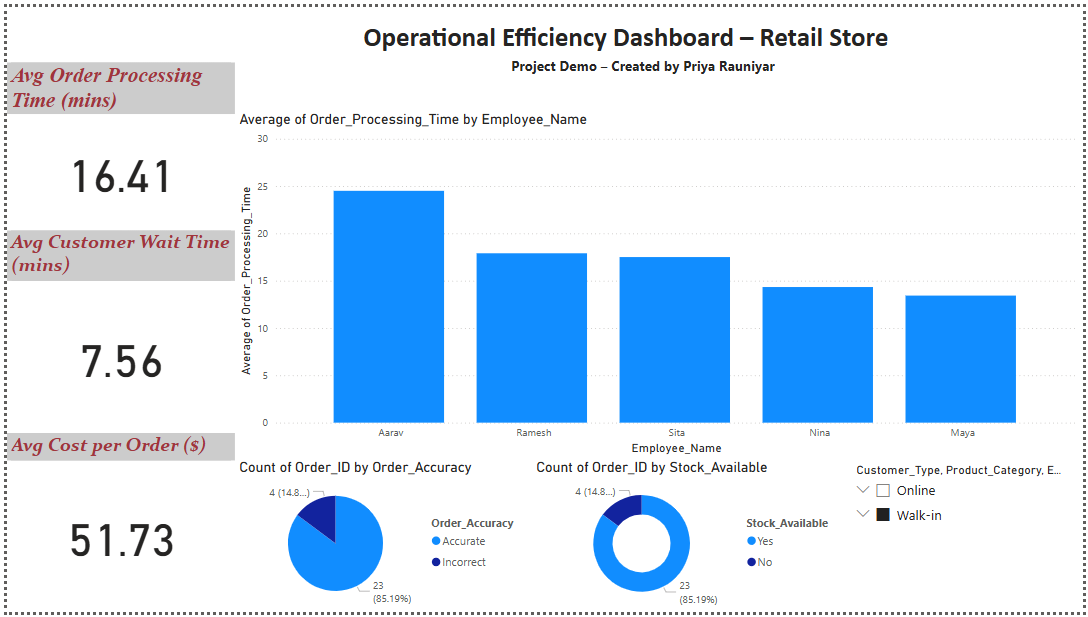

This screenshot's page, from the dashboard's own definition file:
{"tool":"powerbi","page":{"name":"Page 1","canvas":[1280,720],"ordinal":0},"visuals":[{"type":"card","title":"Avg Order Processing Time (mins)","fields":{"Values":["Sheet1.Order_Processing_Time"]},"box":[0,65.3,271.3,200.9],"z":0},{"type":"card","title":"Avg Customer Wait Time (mins)","fields":{"Values":["Sheet1.Customer_Wait_Time"]},"box":[0,266.2,271.3,240.4],"z":1000},{"type":"card","title":"Avg Cost per Order ($)","fields":{"Values":["Sheet1.Cost_per_Order"]},"box":[0,506.6,271.3,213],"z":2000},{"type":"hundredPercentStackedColumnChart","fields":{"Category":["Sheet1.Employee_Name"],"Y":["Sheet1.Order_Processing_Time"]},"box":[271.3,65.3,1008.1,415.6],"z":3000},{"type":"pieChart","fields":{"Category":["Sheet1.Order_Accuracy"],"Y":["Sheet1.Order_ID"]},"box":[271.3,506.6,353.8,213],"z":4000},{"type":"donutChart","fields":{"Category":["Sheet1.Stock_Available"],"Y":["Sheet1.Order_ID"]},"box":[625.1,506.6,372.7,213],"z":5000},{"type":"slicer","fields":{"Values":["Sheet1.Customer_Type","Sheet1.Product_Category","Sheet1.Employee_Name"]},"box":[997.8,506.6,281.6,213],"z":6000},{"type":"textbox","box":[271.3,0,805.4,55],"z":7000}]}

Visuals, with their boxes in screenshot pixels (x1, y1, x2, y2), scaled from the page's 1280x720 canvas onto the 1088x617 screenshot:
"Avg Order Processing Time (mins)" card: {"x1": 0, "y1": 56, "x2": 231, "y2": 228}
"Avg Customer Wait Time (mins)" card: {"x1": 0, "y1": 228, "x2": 231, "y2": 434}
"Avg Cost per Order ($)" card: {"x1": 0, "y1": 434, "x2": 231, "y2": 616}
hundredPercentStackedColumnChart - Sheet1.Employee_Name x Sheet1.Order_Processing_Time: {"x1": 231, "y1": 56, "x2": 1087, "y2": 412}
pieChart - Sheet1.Order_Accuracy x Sheet1.Order_ID: {"x1": 231, "y1": 434, "x2": 531, "y2": 616}
donutChart - Sheet1.Stock_Available x Sheet1.Order_ID: {"x1": 531, "y1": 434, "x2": 848, "y2": 616}
slicer - Sheet1.Customer_Type x Sheet1.Product_Category: {"x1": 848, "y1": 434, "x2": 1087, "y2": 616}
textbox: {"x1": 231, "y1": 0, "x2": 915, "y2": 47}
